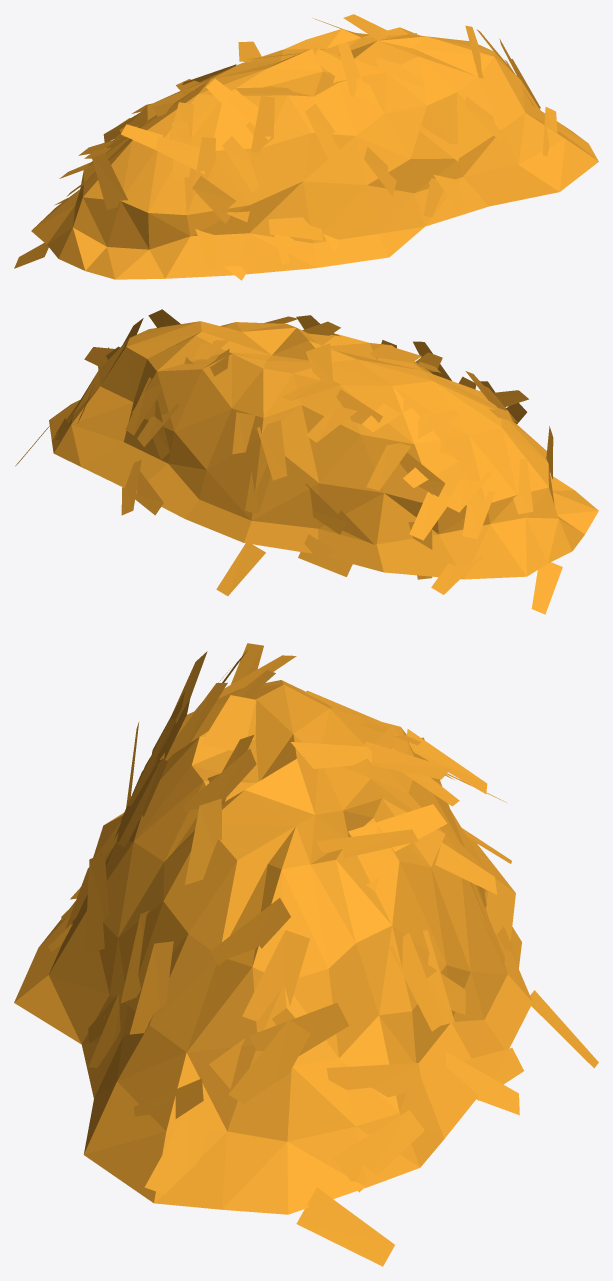
Rendered from SM_Grass_Pile_Small.fbx.
The picture shows the model from 3 angles, top to bottom: view 1: azimuth 30°, elevation 25°; view 2: azimuth 150°, elevation 25°; view 3: azimuth 270°, elevation 25°; orthographic projection. The views are drawn at different scales.
Parts seen in each view (by area): view 1: grass-pile-small; view 2: grass-pile-small; view 3: grass-pile-small.
Boxes of the visible parts, x1,y1,x2,y2 form: grass-pile-small: (14,14,598,280); grass-pile-small: (15,309,598,614); grass-pile-small: (14,643,598,1266).
Bounding box in the file's own units: 1.83 × 0.6453 × 1.03.
